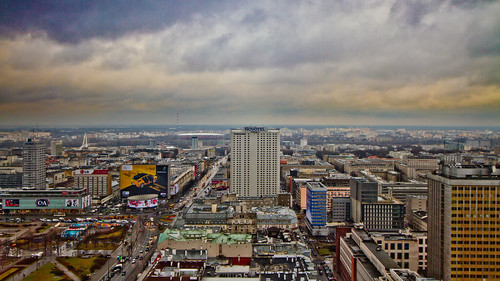building: (432, 173, 500, 281), (231, 127, 280, 199), (161, 226, 254, 257), (351, 183, 404, 228), (17, 138, 47, 192), (68, 167, 112, 200), (181, 201, 237, 226), (252, 201, 299, 229), (303, 184, 328, 230)
sky: (1, 1, 500, 126)
